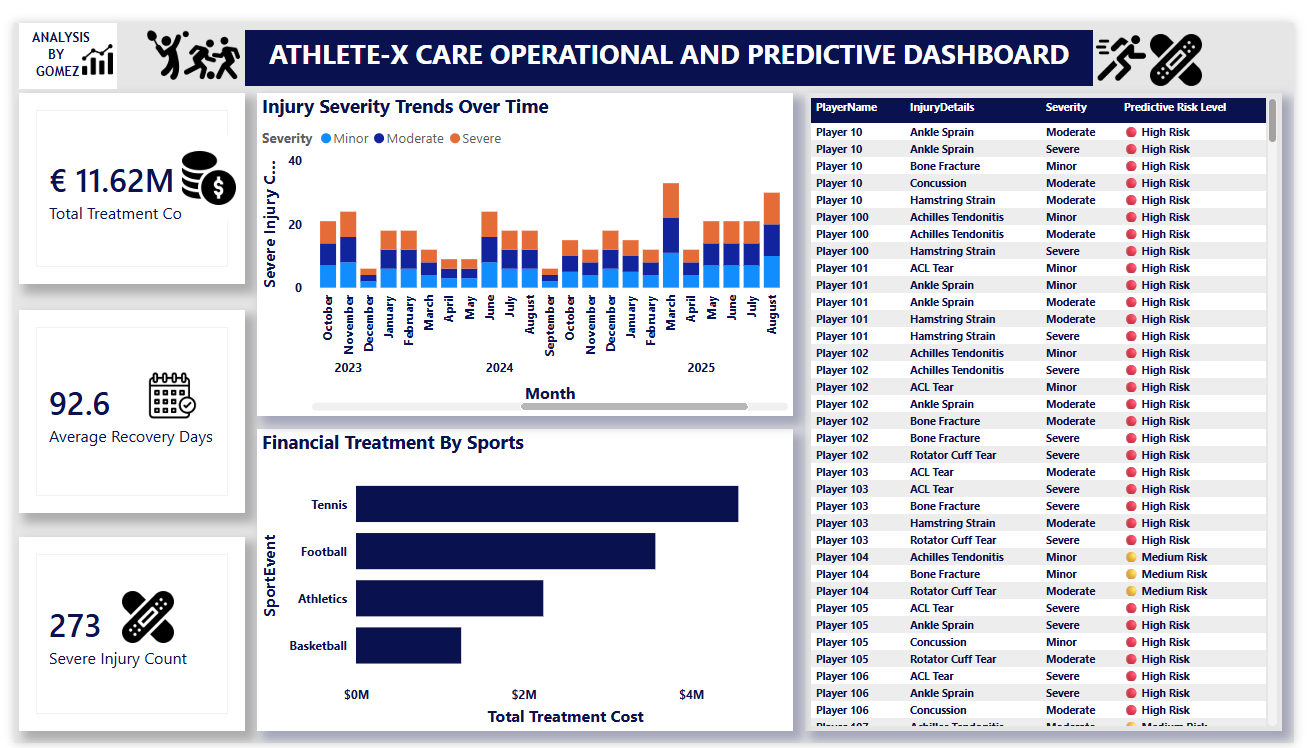

What the dashboard file says about the page in this screenshot:
{"tool":"powerbi","page":{"name":"Page 1","canvas":[1280,720],"ordinal":0},"visuals":[{"type":"cardVisual","fields":{"Data":["Table_athletex_care_injurylogs.Total Treatment Cost"]},"box":[5,70,226,191],"z":0},{"type":"cardVisual","fields":{"Data":["Table_athletex_care_injurylogs.Severe Injury Count"]},"box":[5,514,226,194],"z":1000},{"type":"cardVisual","fields":{"Data":["Table_athletex_care_injurylogs.Average Recovery Days"]},"box":[5,287,226,203],"z":2000},{"type":"clusteredBarChart","title":"Financial Treatment By Sports","fields":{"Category":["Table_athletex_care_athletes.SportEvent"],"Y":["Table_athletex_care_injurylogs.Total Treatment Cost"]},"box":[243,406,536,302],"z":3000},{"type":"columnChart","title":"Injury Severity Trends Over Time","fields":{"Y":["Table_athletex_care_injurylogs.Severe Injury Count"],"Category":["Table_athletex_care_injurylogs.InjuryDate.Variation.Date Hierarchy.Year","Table_athletex_care_injurylogs.InjuryDate.Variation.Date Hierarchy.Month"],"Series":["Table_athletex_care_injurylogs.Severity"]},"box":[243,70,536,323],"z":4000},{"type":"tableEx","fields":{"Values":["Table_athletex_care_athletes.PlayerName","Table_athletex_care_injurylogs.InjuryDetails","Table_athletex_care_injurylogs.Severity","Table_athletex_care_athletes.Predictive Risk Level"]},"box":[791,70,477,638],"z":5000},{"type":"textbox","box":[231,7,848,56],"z":6000},{"type":"image","box":[105.9,348.3,104.1,48.5],"z":7000},{"type":"image","box":[167.9,112.2,53.9,86.2],"z":8000},{"type":"image","box":[79,568.3,108.6,52.1],"z":9000},{"type":"image","box":[158,7.2,79,55.7],"z":10000},{"type":"image","box":[120.3,7.2,67.3,49.4],"z":11000},{"type":"image","box":[1072.8,9.9,68.2,50.3],"z":12000},{"type":"image","box":[1106.9,10.8,108.6,52.1],"z":13000},{"type":"textbox","box":[5,0,98,66],"z":13001},{"type":"image","box":[63.6,20.4,38.3,32.5],"z":13002}]}

Visuals, with their boxes in screenshot pixels (x1, y1, x2, y2), scaled from the page's 1280x720 canvas onto the 1310x748 screenshot:
cardVisual - Table_athletex_care_injurylogs.Total Treatment Cost: (5,73,236,271)
cardVisual - Table_athletex_care_injurylogs.Severe Injury Count: (5,534,236,736)
cardVisual - Table_athletex_care_injurylogs.Average Recovery Days: (5,298,236,509)
"Financial Treatment By Sports" clusteredBarChart: (249,422,797,736)
"Injury Severity Trends Over Time" columnChart: (249,73,797,408)
tableEx - Table_athletex_care_athletes.PlayerName x Table_athletex_care_injurylogs.InjuryDetails: (810,73,1298,736)
textbox: (236,7,1104,65)
image: (108,362,215,412)
image: (172,117,227,206)
image: (81,590,192,645)
image: (162,7,243,65)
image: (123,7,192,59)
image: (1098,10,1168,63)
image: (1133,11,1244,65)
textbox: (5,0,105,69)
image: (65,21,104,55)
